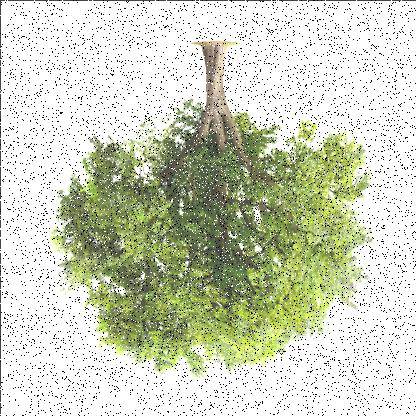Tree: (46, 41, 368, 380)
